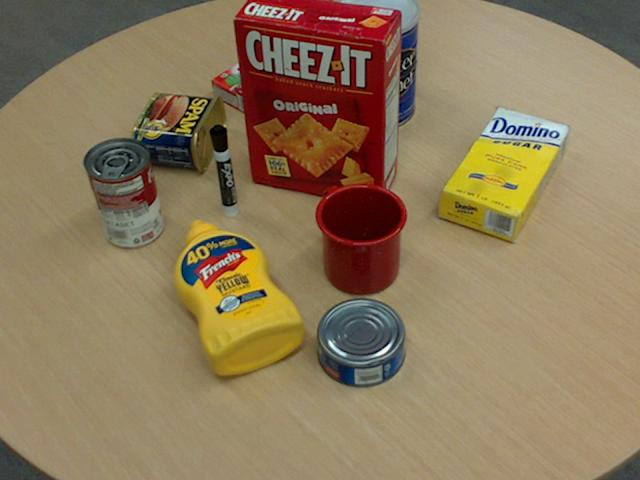cracker_box: (233, 0, 402, 203)
gelatin_box: (209, 54, 296, 119)
large_marker: (208, 124, 237, 218)
master_chef_can: (332, 0, 419, 131)
mug: (314, 182, 406, 293)
mustard_bottle: (172, 219, 304, 374)
potted_meat_can: (132, 92, 226, 170)
sugar_box: (438, 108, 569, 241)
tomato_soup_can: (82, 135, 162, 246)
tuna_fish_can: (317, 298, 405, 387)
